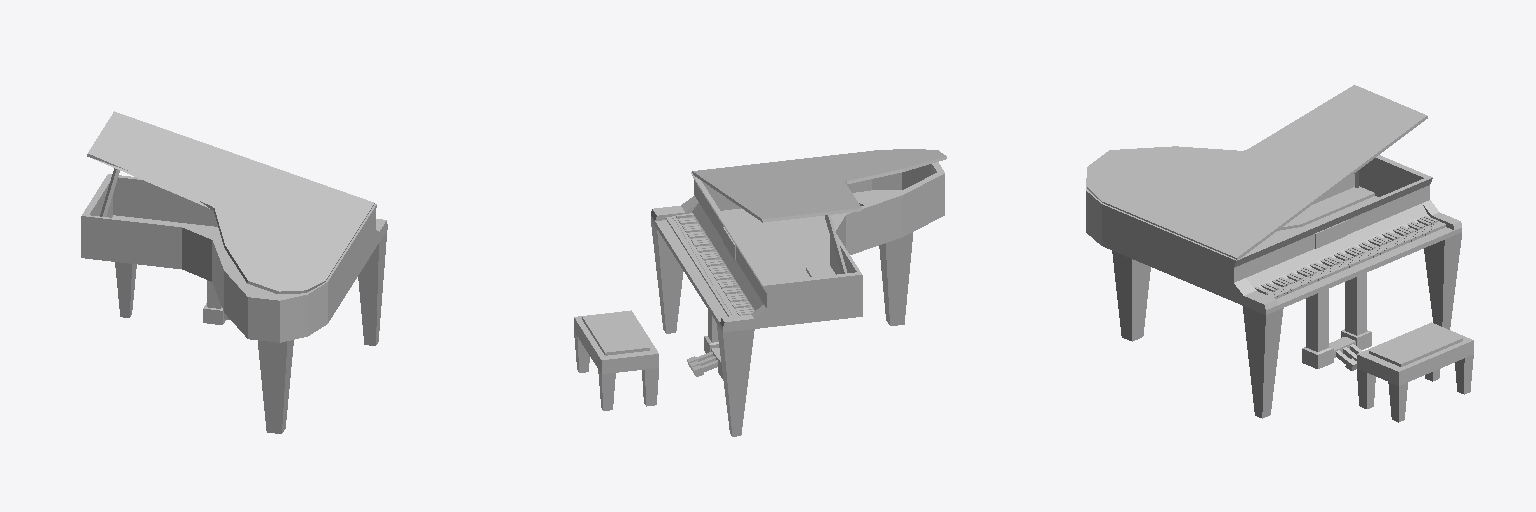
Rendered from piano.obj.
The picture shows the model from 3 angles: view 1: azimuth 30°, elevation 25°; view 2: azimuth 150°, elevation 25°; view 3: azimuth 270°, elevation 25°; orthographic projection.
Parts seen in each view (by area): view 1: grandPiano; view 2: grandPiano; view 3: grandPiano.
Part boxes in pixels (x1,y1,x2,y2): grandPiano: (81,111,387,433); grandPiano: (574,149,946,436); grandPiano: (1086,85,1473,422).
Size of the model in its own units: 16.42 by 12.51 by 20.49.